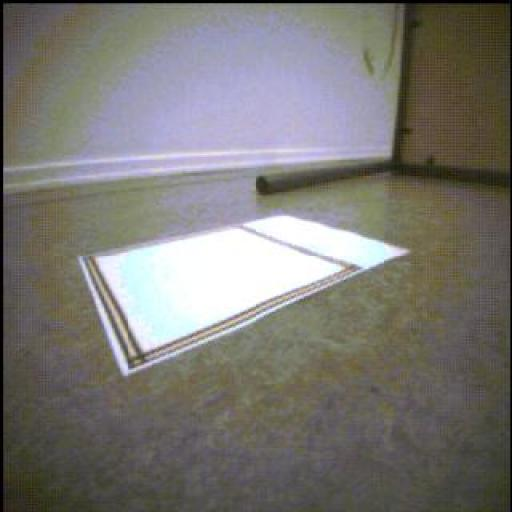Pad: (75, 230, 404, 360)
